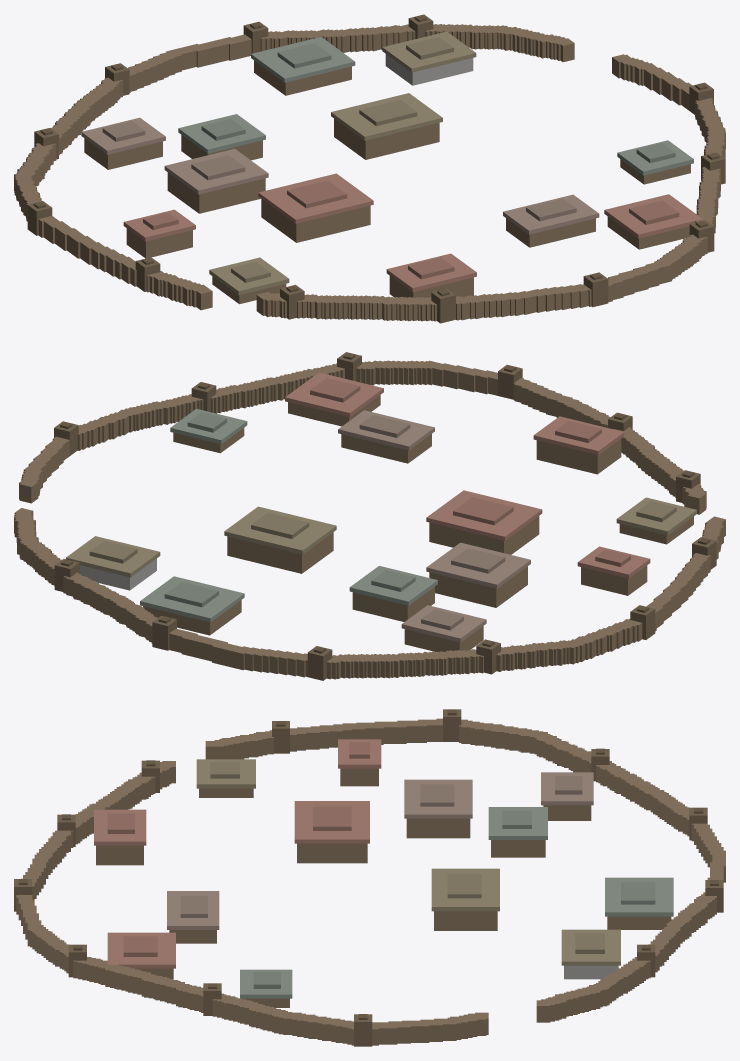
File: ciudad_aldea_agricola_2799_1267_01.glb
3 renders of one model, top to bottom at view 1: azimuth 30°, elevation 25°; view 2: azimuth 150°, elevation 25°; view 3: azimuth 270°, elevation 25°, orthographic.
Parts seen in each view (by area): view 1: ciudad_aldea_agricola_2799_1267; view 2: ciudad_aldea_agricola_2799_1267; view 3: ciudad_aldea_agricola_2799_1267.
Boxes of the visible parts, bbox=[...] form: ciudad_aldea_agricola_2799_1267: bbox=[14, 14, 725, 323]; ciudad_aldea_agricola_2799_1267: bbox=[14, 352, 725, 680]; ciudad_aldea_agricola_2799_1267: bbox=[14, 709, 725, 1046].
Size of the model in its own units: 81 by 3.5 by 78.
